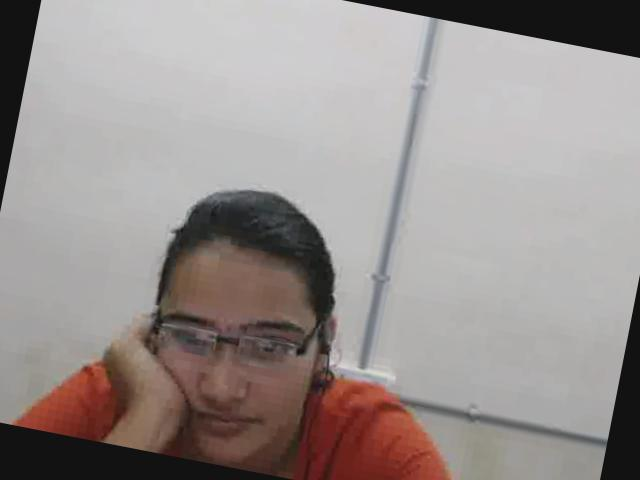bosan: (133, 248, 330, 476)
